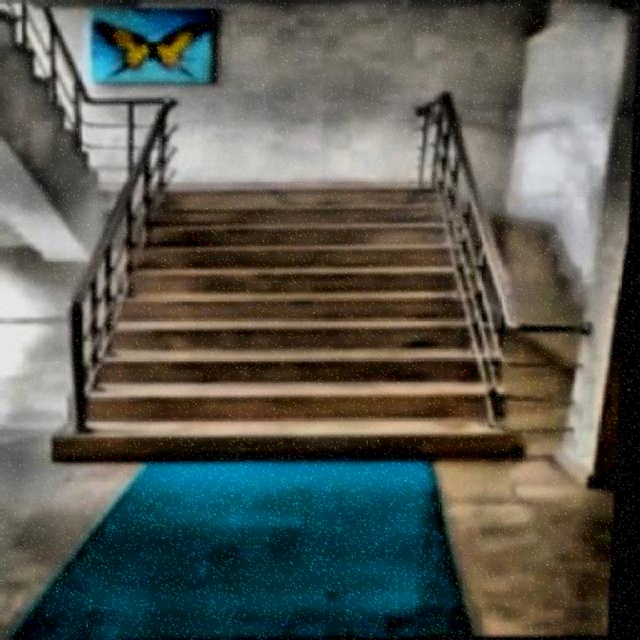stair: (68, 181, 545, 464)
